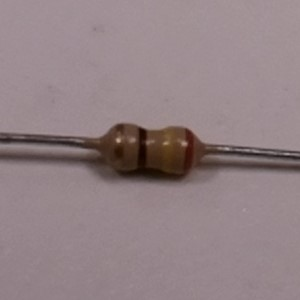brown_band: (134, 123, 150, 175)
gold_band: (111, 121, 127, 174)
red_band: (181, 124, 196, 177)
yellow_band: (157, 124, 175, 177)
